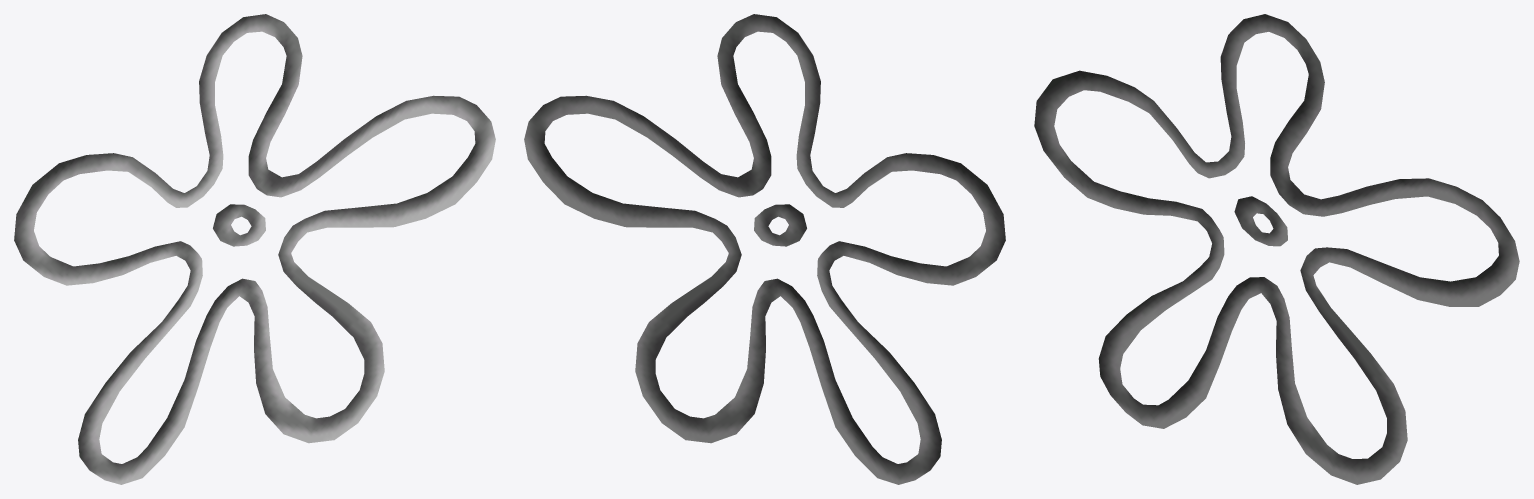
Rendered from cloud.obj.
3 views of the same model, side by side, from view 1: azimuth 30°, elevation 25°; view 2: azimuth 150°, elevation 25°; view 3: azimuth 330°, elevation 25° (orthographic).
Parts seen in each view (by area): view 1: mesh0056; view 2: mesh0056; view 3: mesh0056.
Boxes of the visible parts, left/top/right/bottom form: mesh0056: left=14, top=14, right=495, bottom=484; mesh0056: left=524, top=14, right=1005, bottom=484; mesh0056: left=1034, top=14, right=1519, bottom=484.
Bounding box in the file's own units: 9.89 × 8.73 × 0.
Materials: 1 (1 with a texture image).
